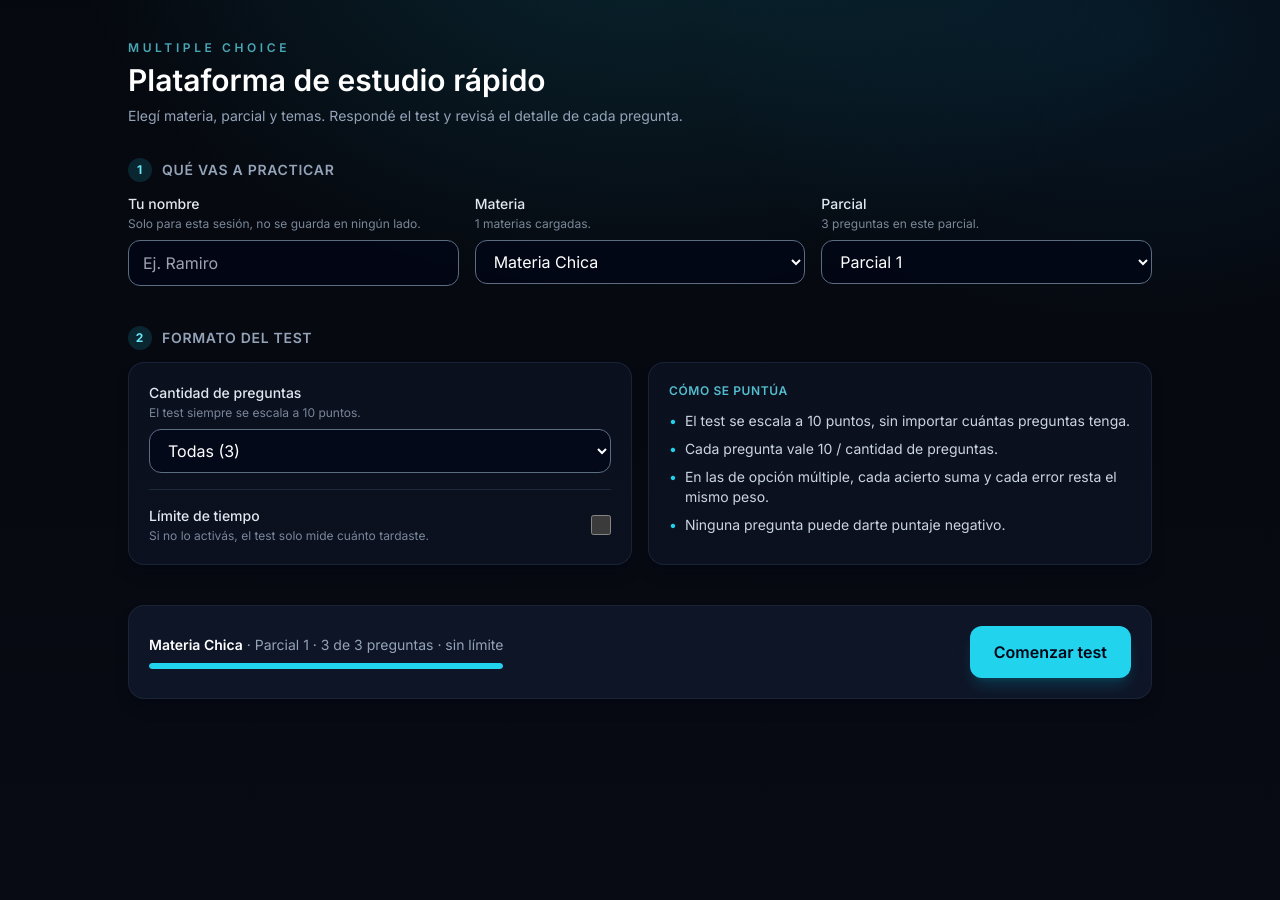
TestApp · envío › cierra el diálogo con Escape y devuelve el foco a quien lo abrió
The image size is (1280, 900).
Click the button "Comenzar test" at (1050, 652), box [970, 626, 1131, 678]
(page scrolled)
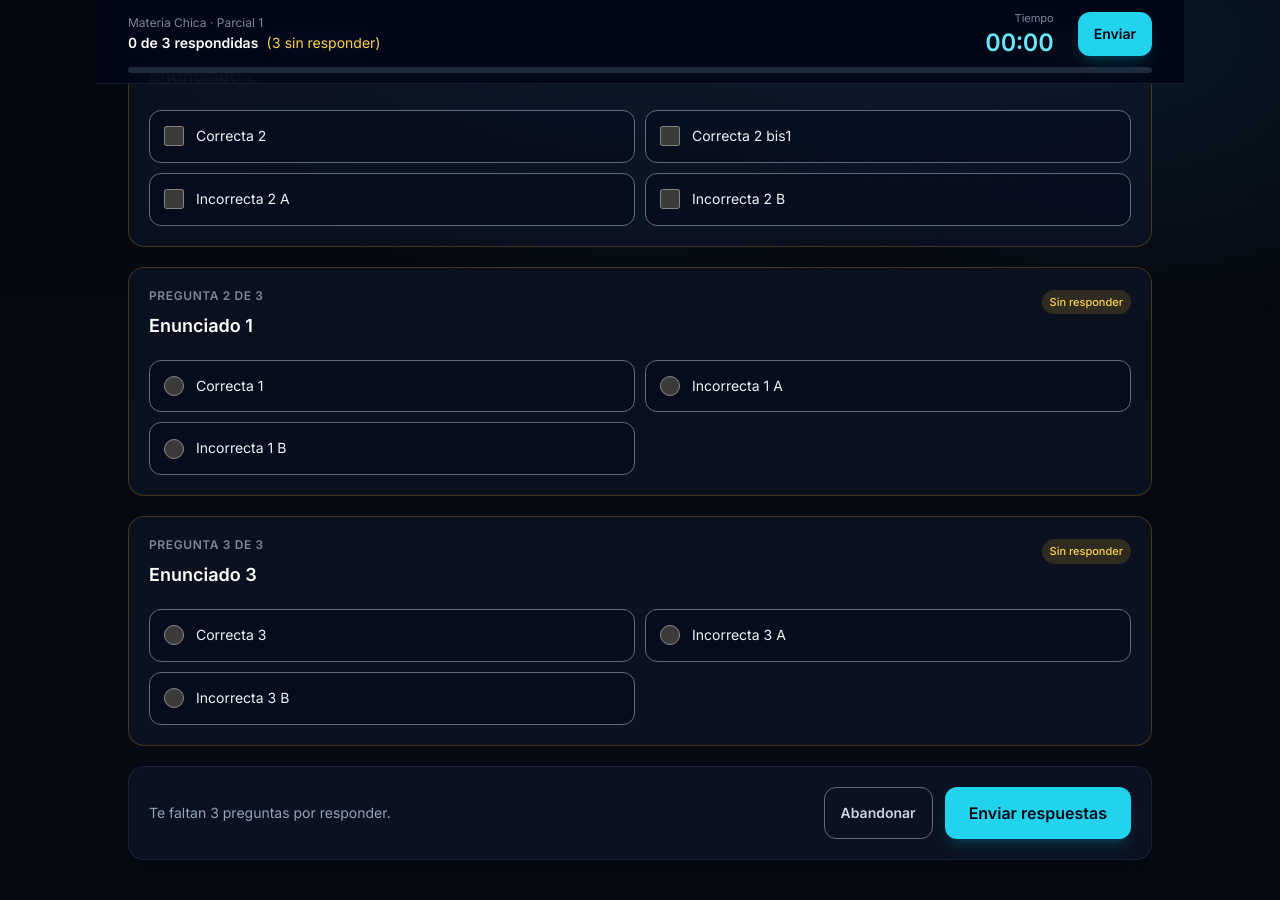
Click the button "Enviar respuestas" at (1038, 812), box [945, 786, 1131, 838]
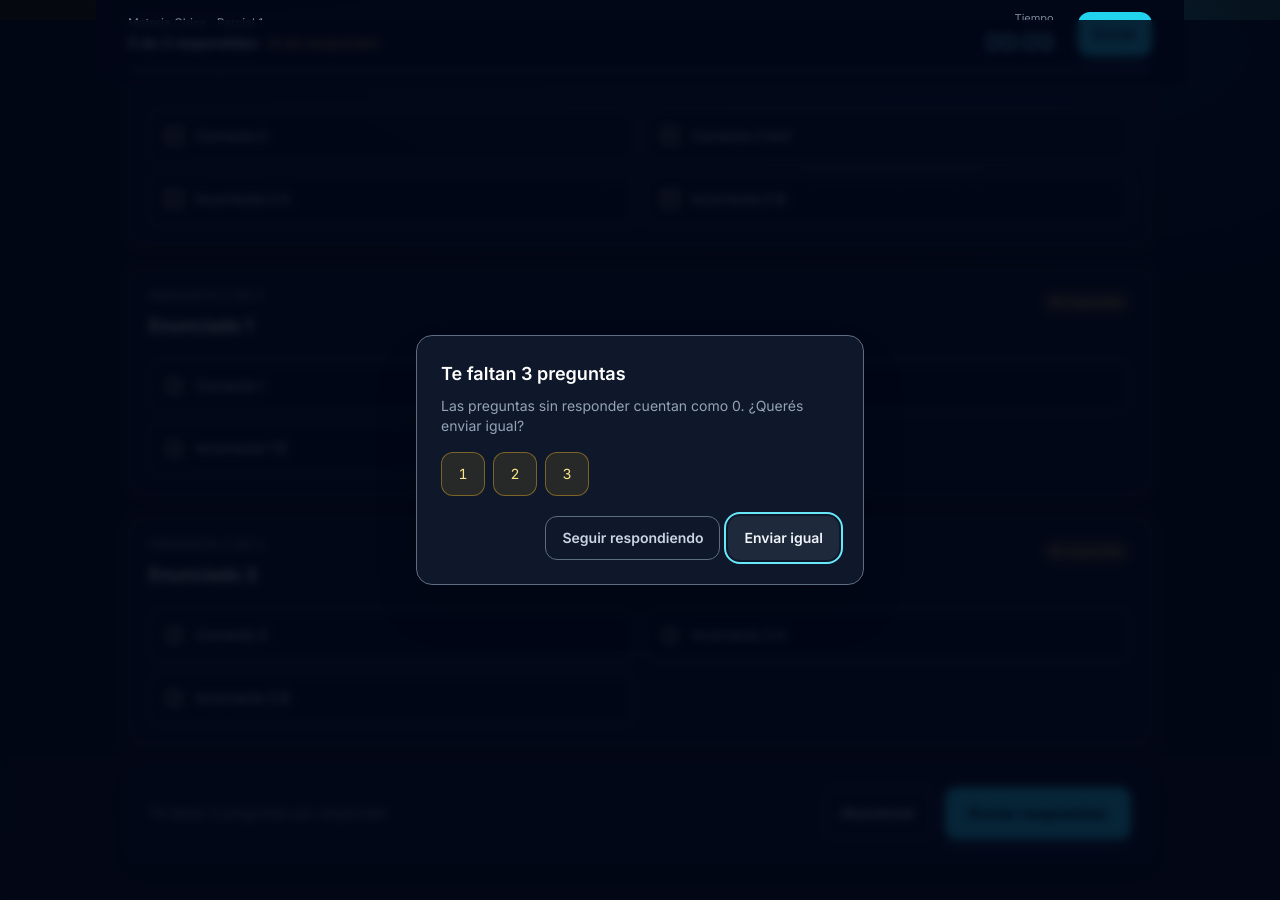
Expected: the dialog is shown, [416, 335, 864, 585]
Press Escape
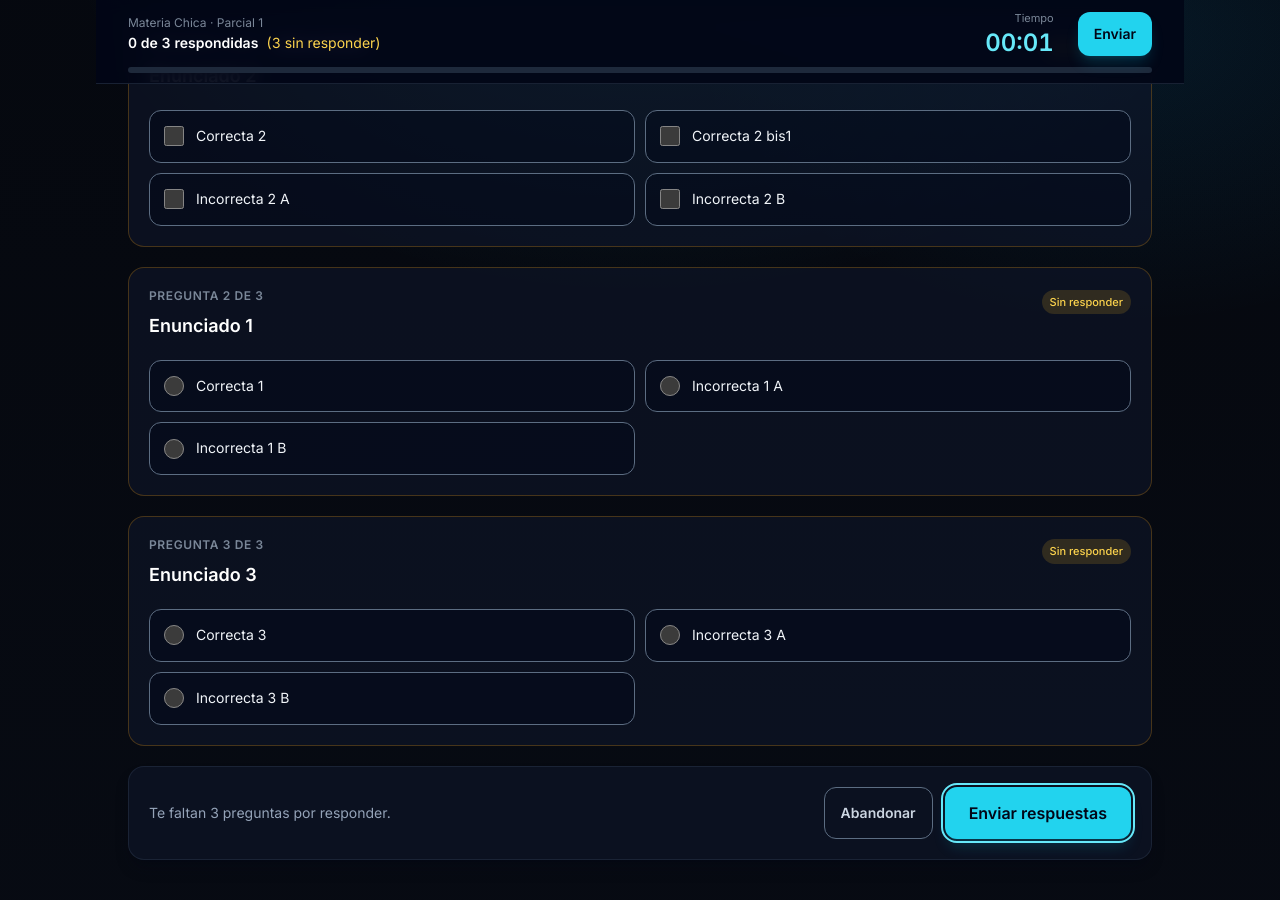
Expected: the dialog is gone
